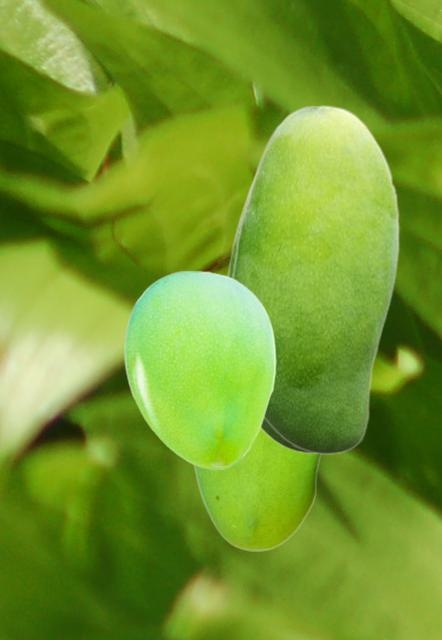green_mango: (230, 104, 399, 454), (123, 270, 275, 468), (226, 173, 309, 453), (193, 432, 322, 550)
